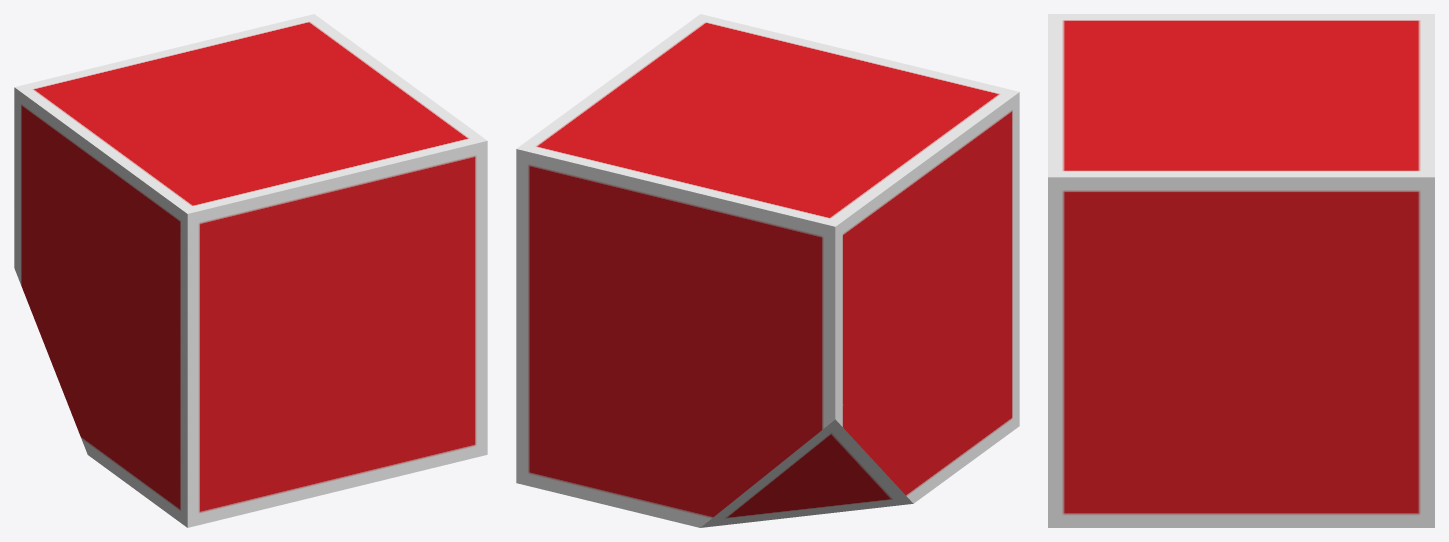
The model's file is puzzle_item2.dae.
3 views of the same model, side by side, from view 1: azimuth 30°, elevation 25°; view 2: azimuth 150°, elevation 25°; view 3: azimuth 270°, elevation 25° (orthographic). The views are drawn at different scales.
Parts seen in each view (by area): view 1: puzzle_item2; view 2: puzzle_item2; view 3: puzzle_item2.
Part boxes in pixels (x1=…): puzzle_item2: x1=14, y1=14, x2=487, y2=527; puzzle_item2: x1=516, y1=14, x2=1019, y2=527; puzzle_item2: x1=1048, y1=14, x2=1434, y2=527.
Bounding box in the file's own units: 0.2 × 0.2 × 0.2.
1 material, 1 textured.
